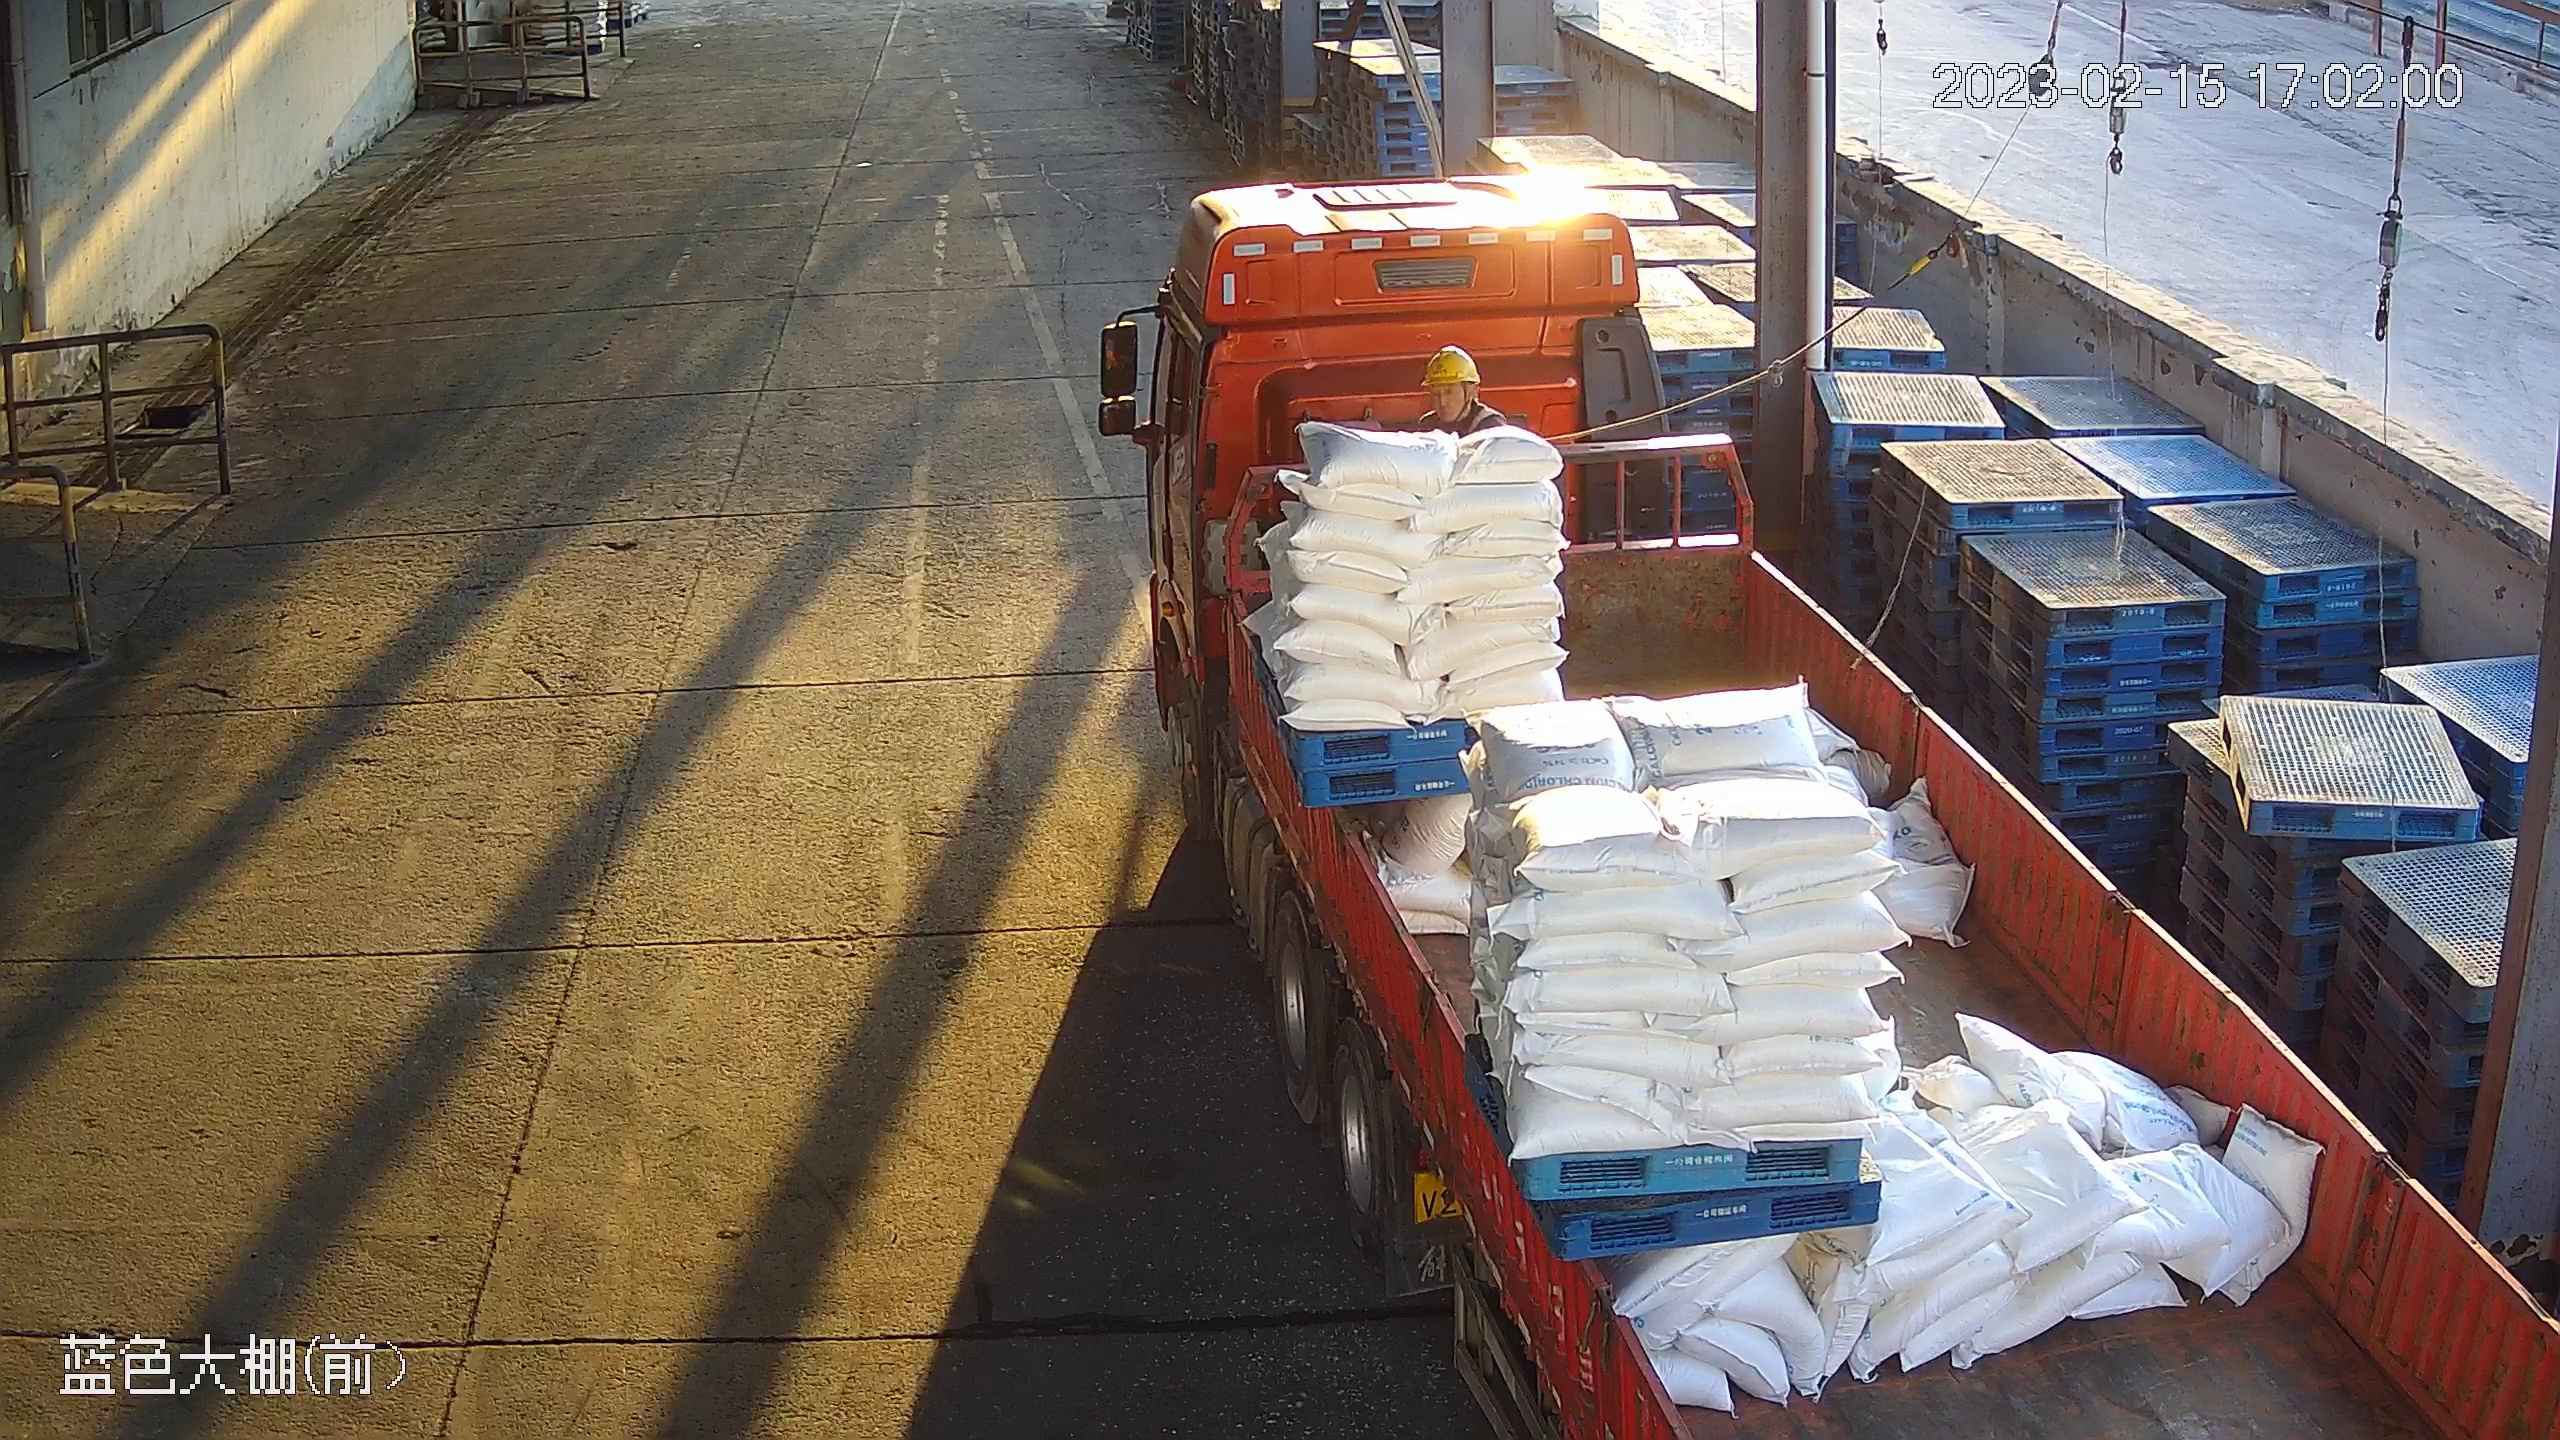head: (1405, 345, 1510, 433)
helmet: (1420, 345, 1481, 384)
truck: (1088, 167, 2560, 1440)
